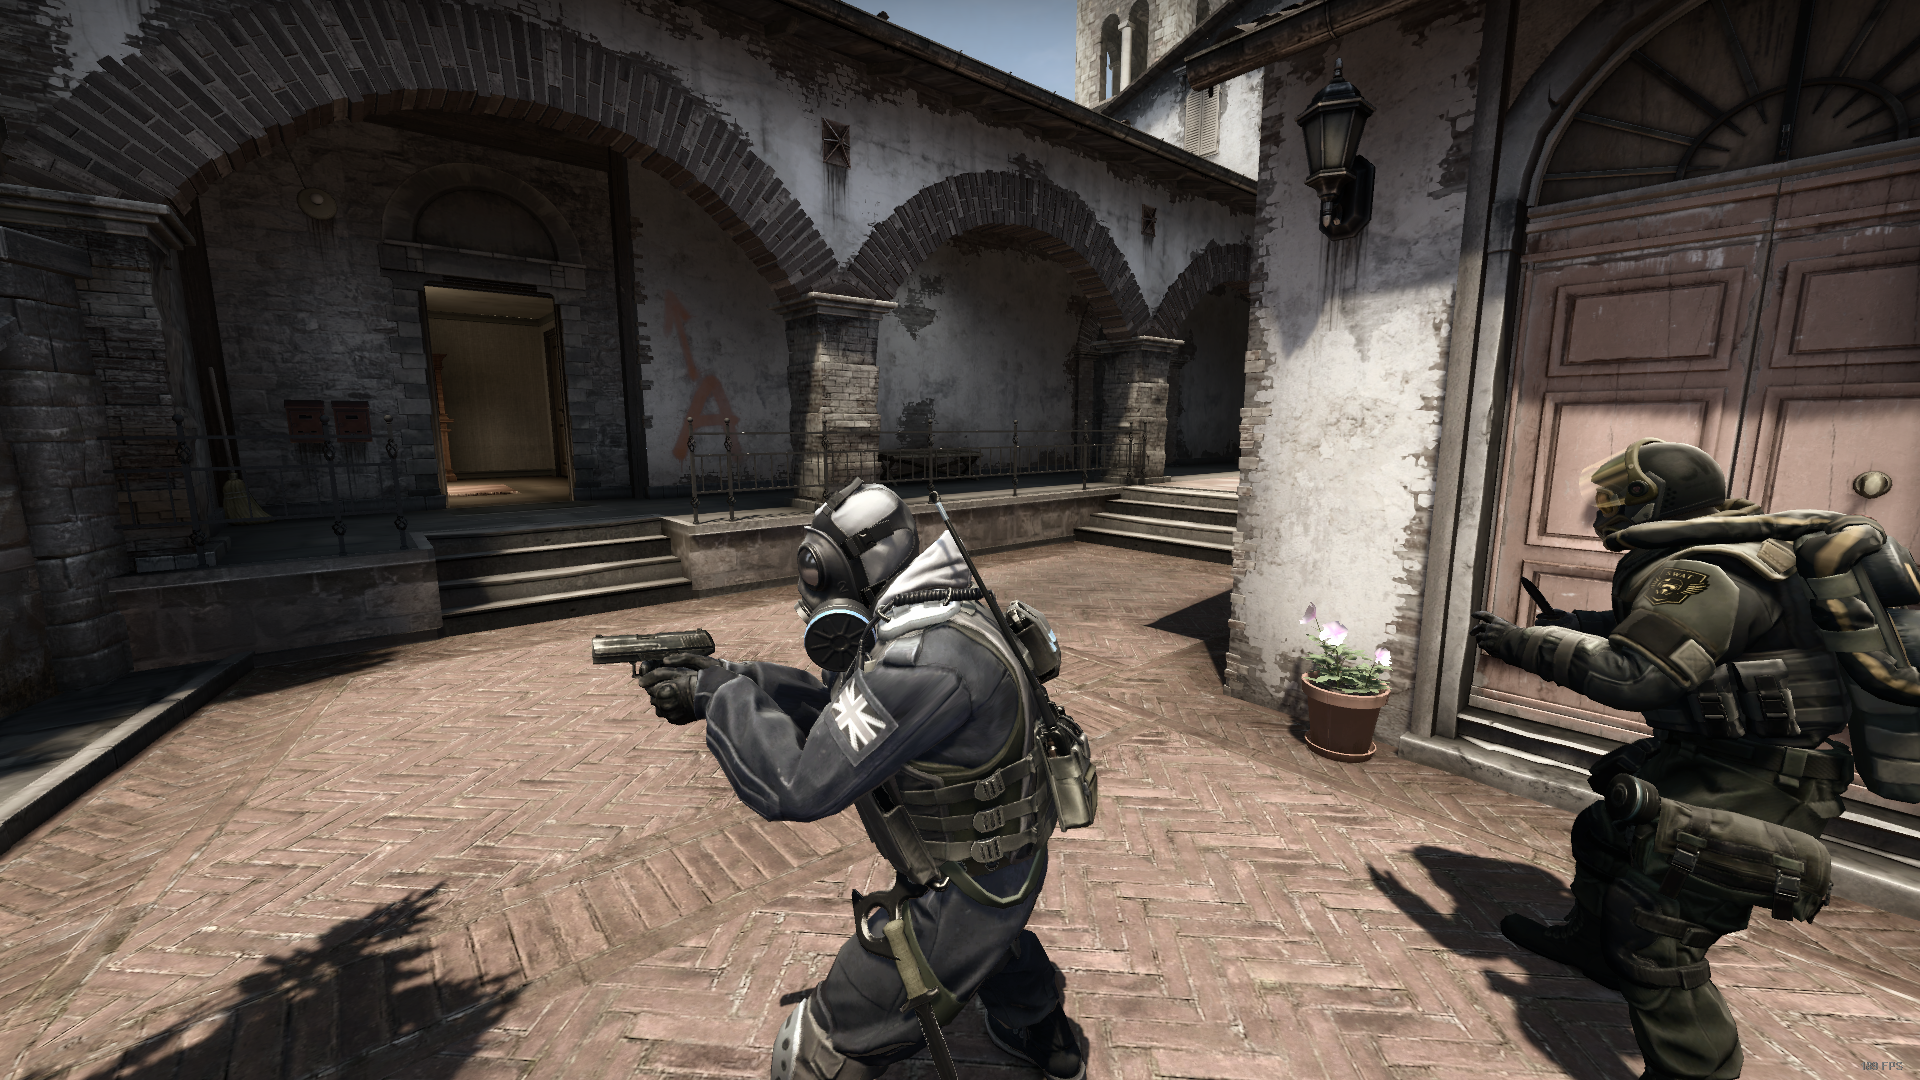ct: (642, 477, 1092, 1080)
